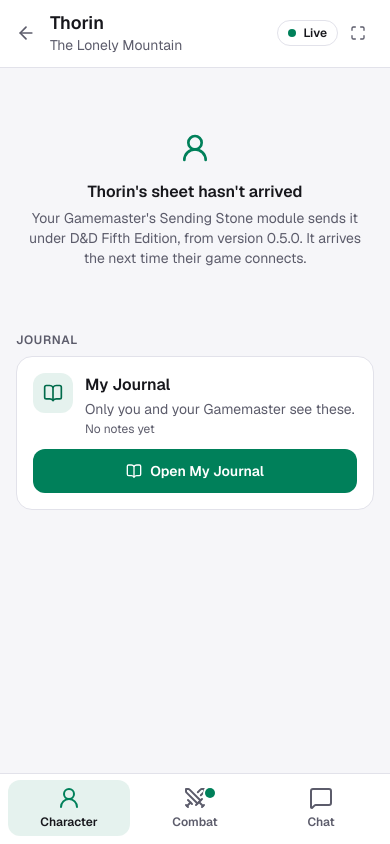
Test case: components/game-table/game-table, End Turn › stops the hold where the turn moves on under it, ending none
The width and height of the screenshot is (390, 844).
Press the mouse on the button "Combat" at (195, 808), box [134,780,256,836]
Wait 600 ms
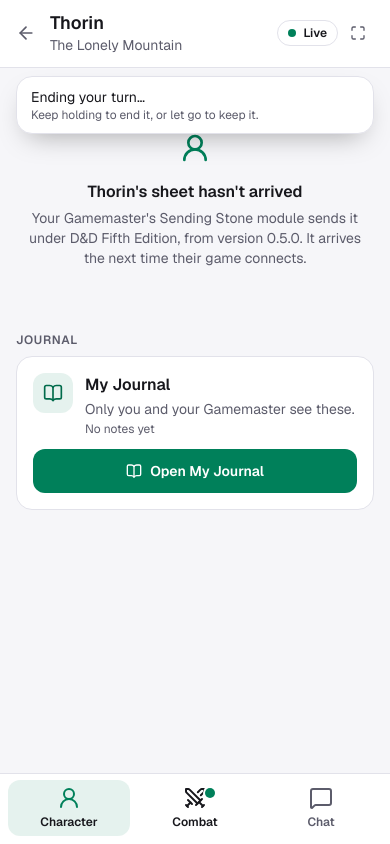
Result: the element that starts with "Ending your turn…" is shown at [16,76,374,134]
